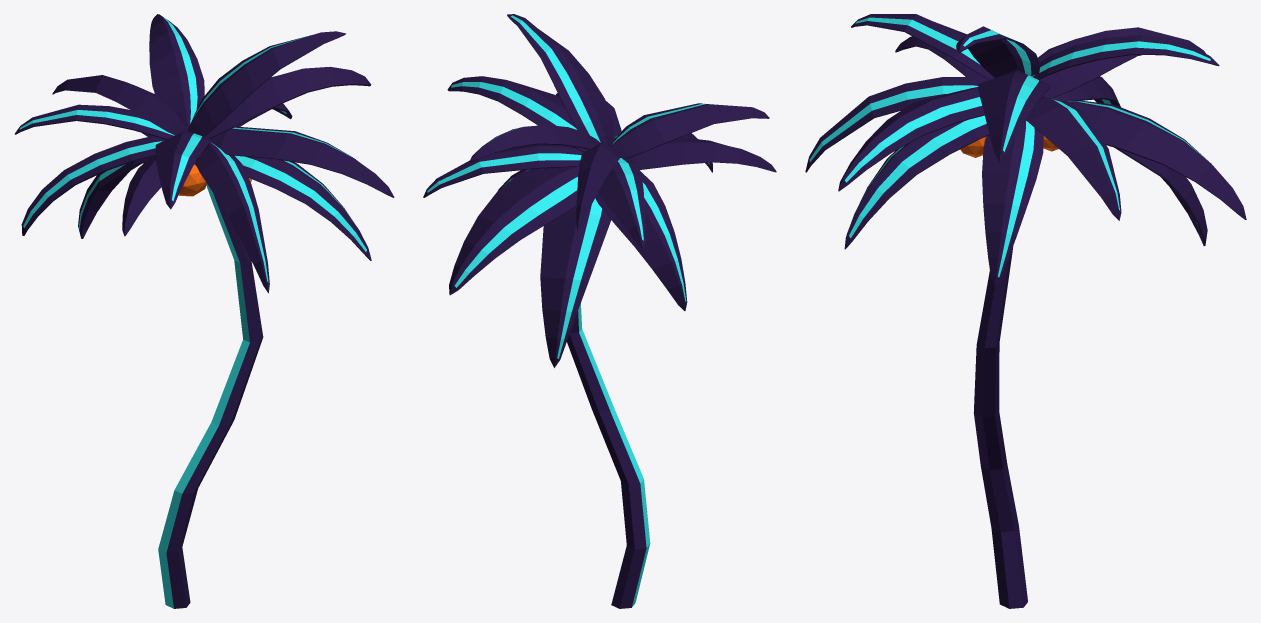
The model's file is RetroPalmTree.glb.
3 renders of one model, left to right at view 1: azimuth 30°, elevation 25°; view 2: azimuth 150°, elevation 25°; view 3: azimuth 270°, elevation 25°, orthographic. The views are drawn at different scales.
Visible parts, largest first — view 1: PalmTree_4; view 2: PalmTree_4; view 3: PalmTree_4.
Part boxes in pixels (bbox=[...]): PalmTree_4: bbox=[14, 14, 394, 608]; PalmTree_4: bbox=[423, 14, 776, 608]; PalmTree_4: bbox=[805, 14, 1246, 608].
Bounding box in the file's own units: 1.81 × 3.25 × 2.05.
